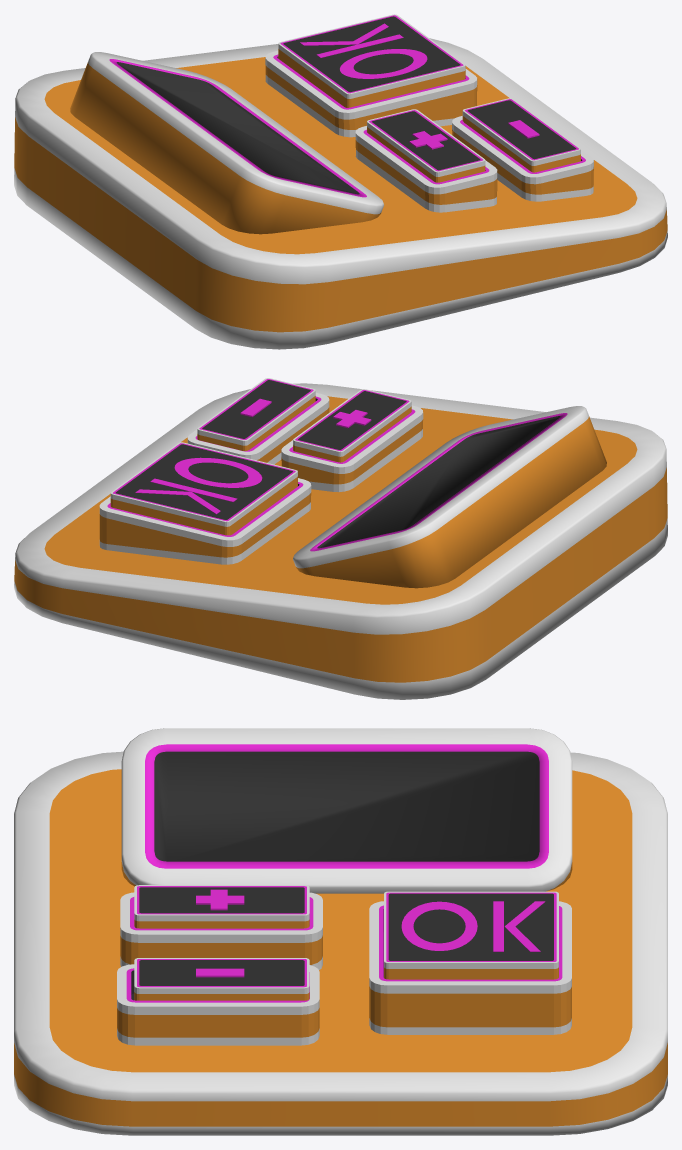
The model's file is PlusMinusMachine.fbx.
3 renders of one model, top to bottom at view 1: azimuth 30°, elevation 25°; view 2: azimuth 150°, elevation 25°; view 3: azimuth 270°, elevation 25°, orthographic. The views are drawn at different scales.
Parts seen in each view (by area): view 1: PlusMinusMachine, ButtonOk, ButtonMinus, ButtonPlus; view 2: PlusMinusMachine, ButtonOk, ButtonPlus, ButtonMinus; view 3: PlusMinusMachine, ButtonOk, ButtonPlus, ButtonMinus.
Part boxes in pixels (left/top/right/bottom): PlusMinusMachine: left=14, top=38, right=667, bottom=349; ButtonOk: left=278, top=14, right=465, bottom=107; ButtonMinus: left=462, top=98, right=580, bottom=172; ButtonPlus: left=367, top=109, right=485, bottom=182; PlusMinusMachine: left=14, top=383, right=667, bottom=699; ButtonOk: left=110, top=442, right=297, bottom=535; ButtonPlus: left=293, top=389, right=411, bottom=462; ButtonMinus: left=197, top=378, right=315, bottom=451; PlusMinusMachine: left=14, top=728, right=667, bottom=1135; ButtonOk: left=384, top=891, right=558, bottom=979; ButtonPlus: left=134, top=885, right=309, bottom=928; ButtonMinus: left=134, top=958, right=309, bottom=1000.
Bounding box in the file's own units: 200 × 56.9 × 200.
